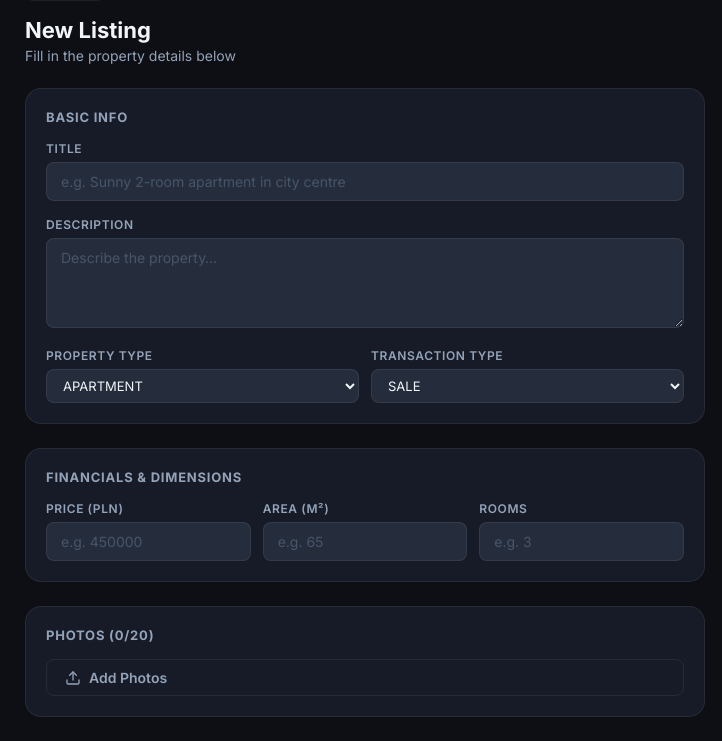
Scenario: CreateListingPage › should show error when submitting without photos
The width and height of the screenshot is (722, 741).
Note: Fill all required fields but add NO photos
Step 1. Type "Test Apartment" into the field with placeholder "e.g. Sunny 2-room apartment in city centre" → (365, 182), box [46,162,684,201]
Step 2. Type "300000" into the number field with placeholder "e.g. 450000" → (148, 542), box [46,522,251,561]
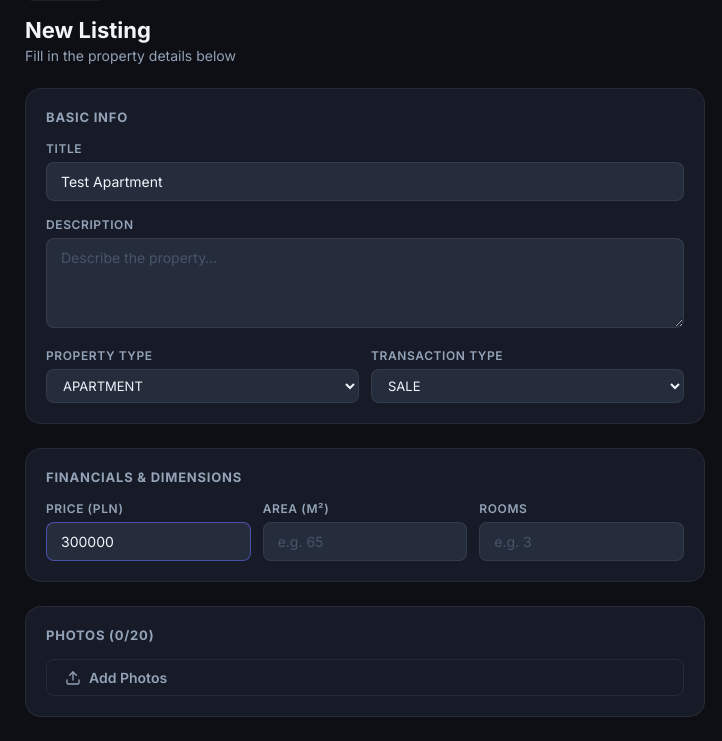
Step 3. Type "50" into the number field with placeholder "e.g. 65" → (365, 542), box [263,522,467,561]
(page scrolled)
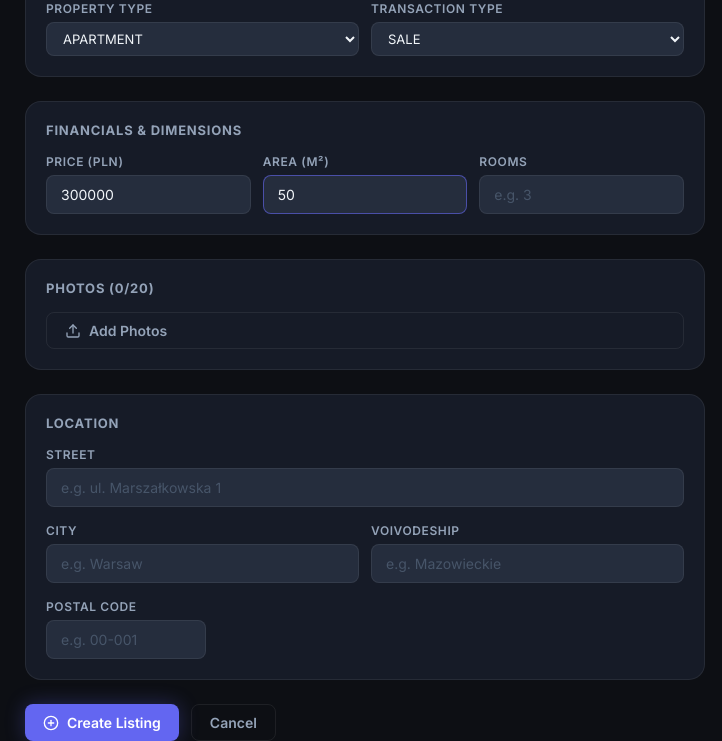
Step 4. Type "ul. Test 1" into the field with placeholder "e.g. ul. Marszałkowska 1" → (365, 488), box [46,468,684,507]
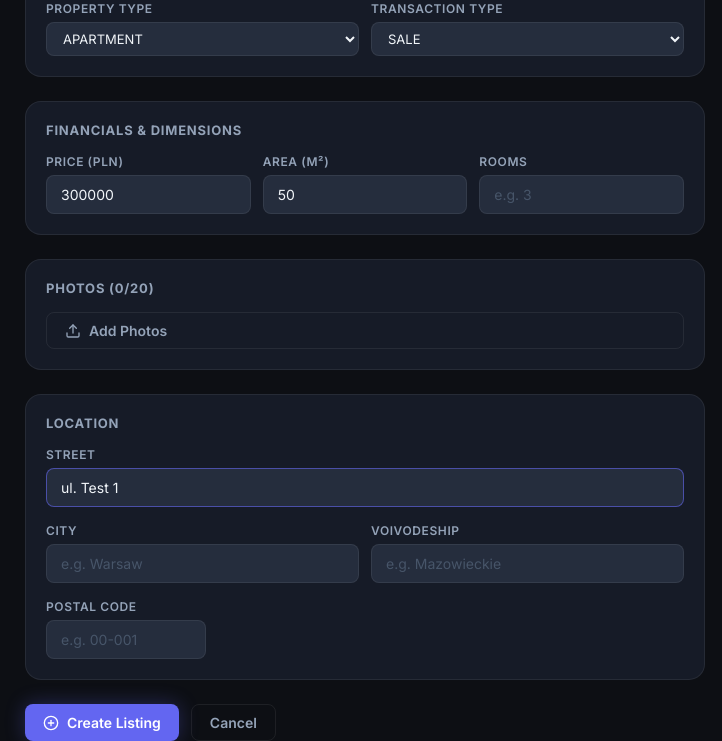
Step 5. Type "Krakow" into the field with placeholder "e.g. Warsaw" → (202, 564), box [46,544,359,583]
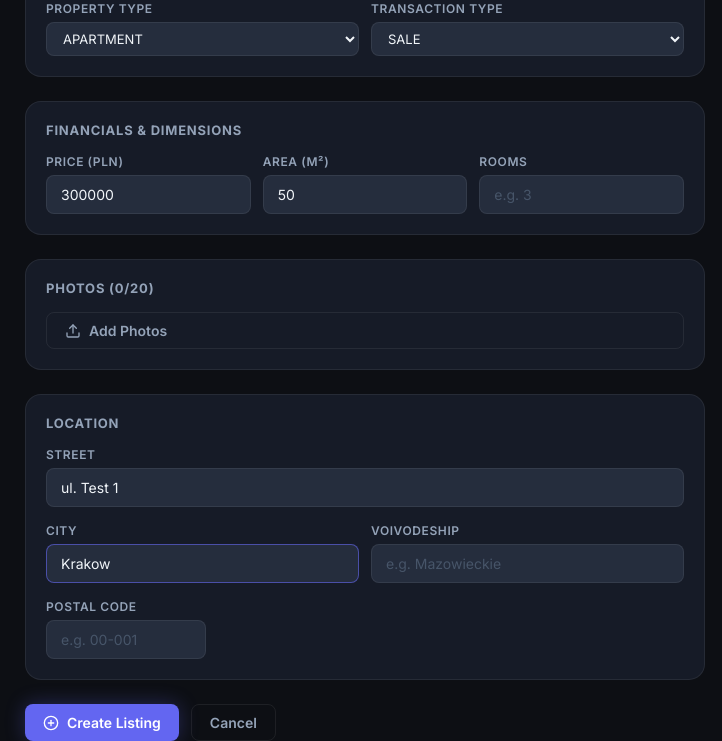
Step 6. Type "30-001" into the field with placeholder "e.g. 00-001" → (126, 640), box [46,620,206,659]
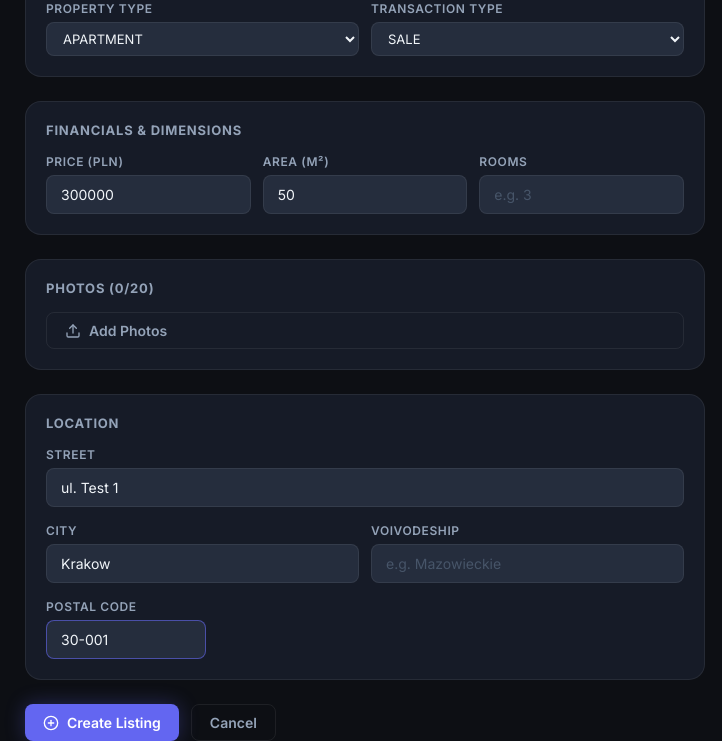
Step 7. Click the button "Create Listing" → (102, 722), box [25,704,179,740]
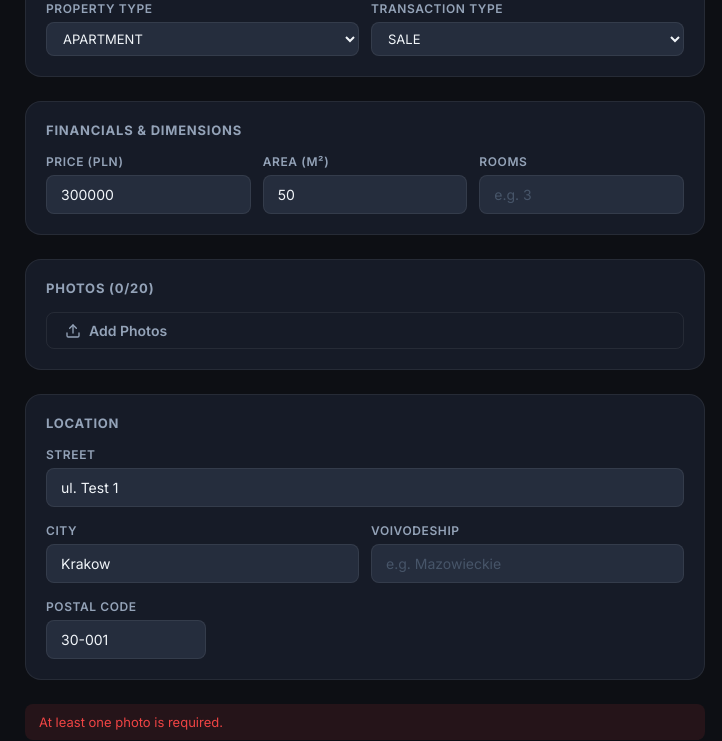
Now the text "At least one photo is required." is shown, box [25,704,705,740]
